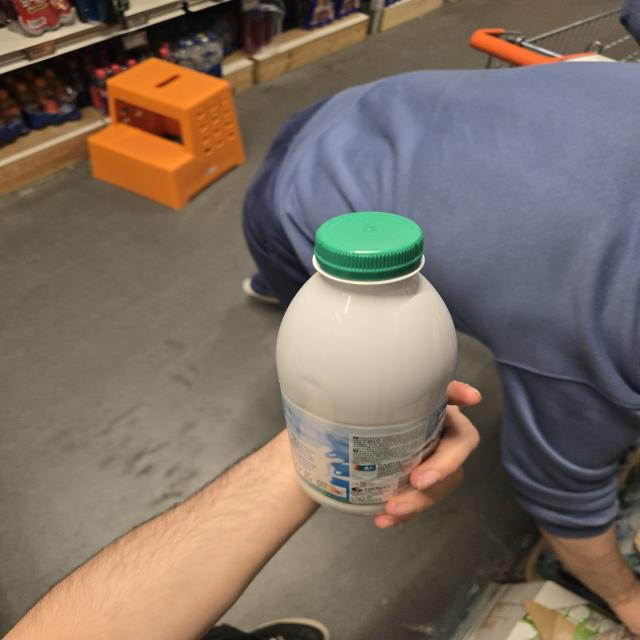Milk: (275, 212, 456, 514)
